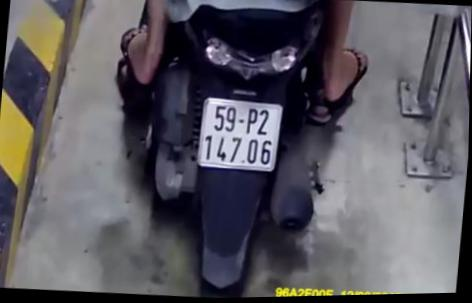LP: (194, 95, 284, 177)
